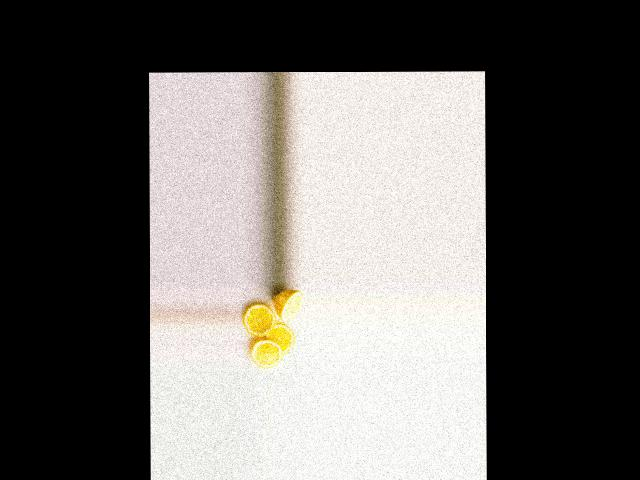lemon: (275, 287, 303, 321)
